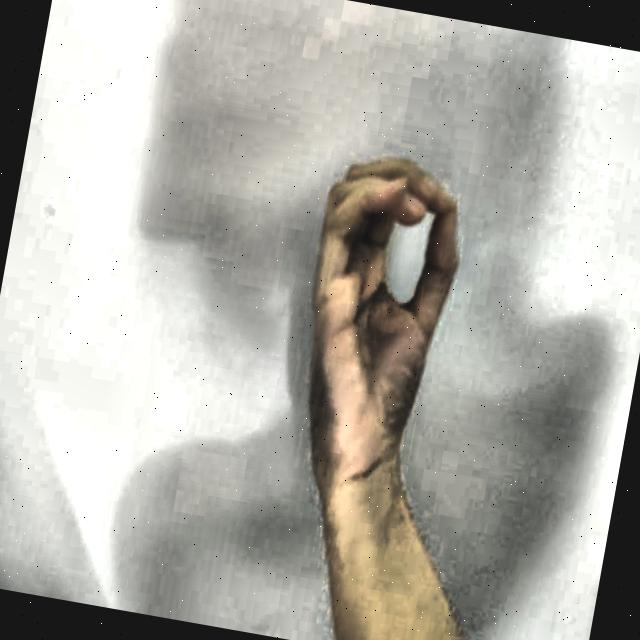O: (244, 122, 511, 526)
